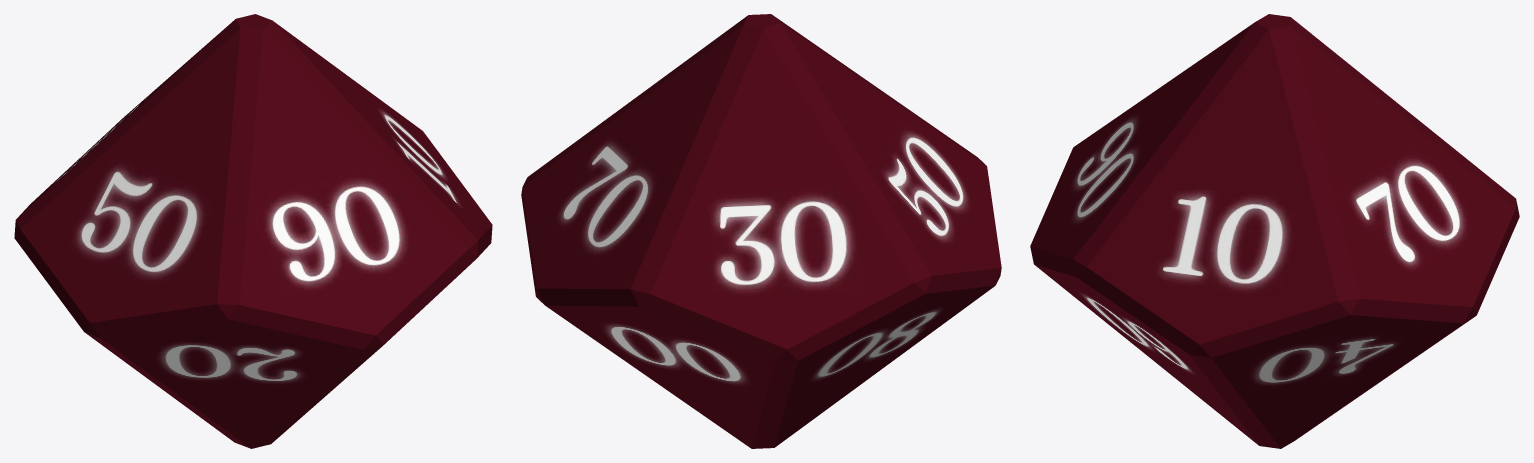
Rendered from D10x10Disadvantage.glb.
3 views of the same model, side by side, from view 1: azimuth 30°, elevation 25°; view 2: azimuth 150°, elevation 25°; view 3: azimuth 270°, elevation 25° (orthographic).
Parts seen in each view (by area): view 1: D10x10Disadvantage; view 2: D10x10Disadvantage; view 3: D10x10Disadvantage.
Part boxes in pixels (x1,y1,x2,y2): D10x10Disadvantage: [14, 14, 492, 448]; D10x10Disadvantage: [521, 14, 1001, 448]; D10x10Disadvantage: [1030, 14, 1519, 448].
Bounding box in the file's own units: 2.95 × 2.93 × 3.1.
Materials: 1 (1 with a texture image).
